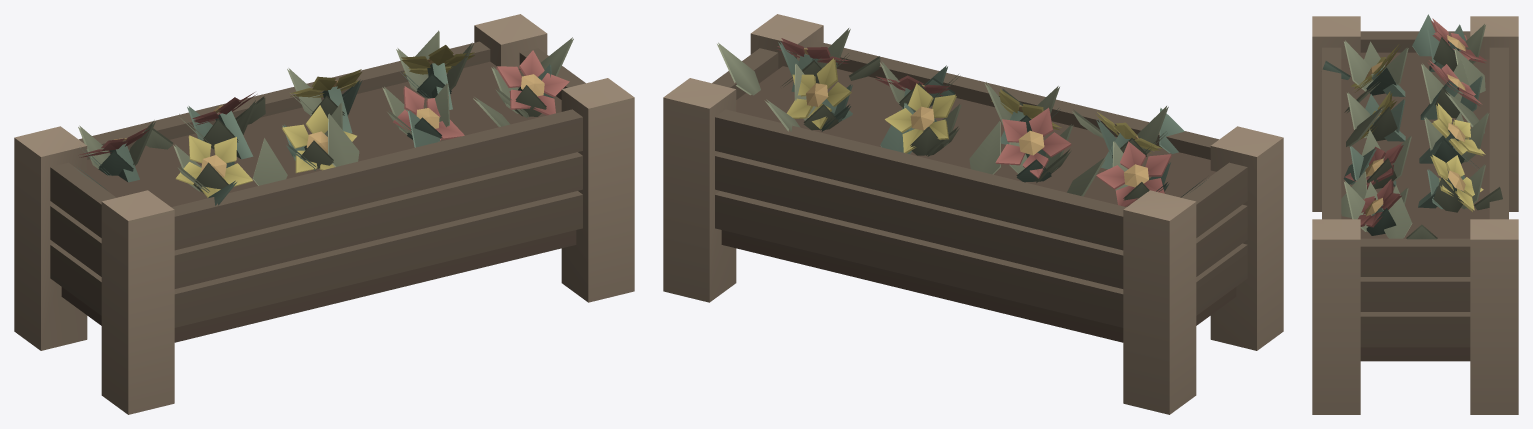
Rendered from planter.glb.
3 views of the same model, side by side, from view 1: azimuth 30°, elevation 25°; view 2: azimuth 150°, elevation 25°; view 3: azimuth 270°, elevation 25° (orthographic). The views are drawn at different scales.
Parts seen in each view (by area): view 1: planter.001; view 2: planter.001; view 3: planter.001.
Boxes of the visible parts, left/top/right/bottom form: planter.001: left=14, top=14, right=634, bottom=414; planter.001: left=663, top=14, right=1283, bottom=414; planter.001: left=1312, top=14, right=1518, bottom=414.
Bounding box in the file's own units: 1.8 × 0.7804 × 0.704.
